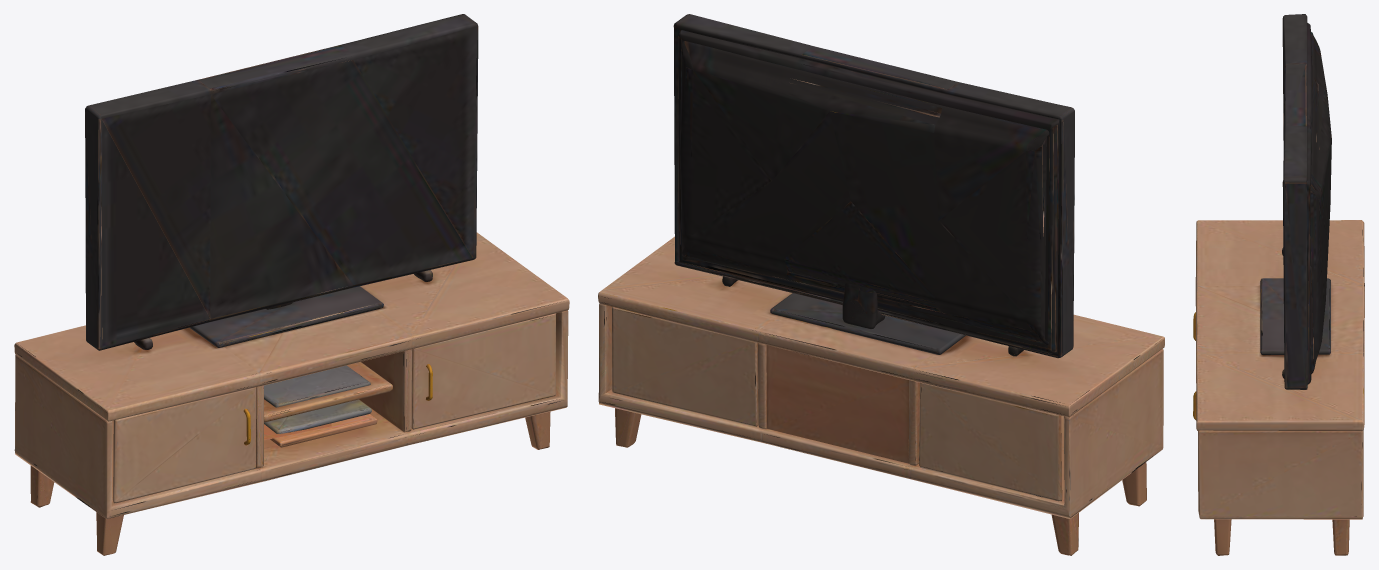
The model's file is tv_media_console.glb.
3 renders of one model, left to right at view 1: azimuth 30°, elevation 25°; view 2: azimuth 150°, elevation 25°; view 3: azimuth 270°, elevation 25°, orthographic. The views are drawn at different scales.
Parts seen in each view (by area): view 1: geometry_0; view 2: geometry_0; view 3: geometry_0.
Part boxes in pixels (<box>): geometry_0: <box>14,14,569,555</box>; geometry_0: <box>598,14,1164,555</box>; geometry_0: <box>1193,14,1364,555</box>.
Bounding box in the file's own units: 1 × 0.8431 × 0.3618.
1 material, 1 textured.
